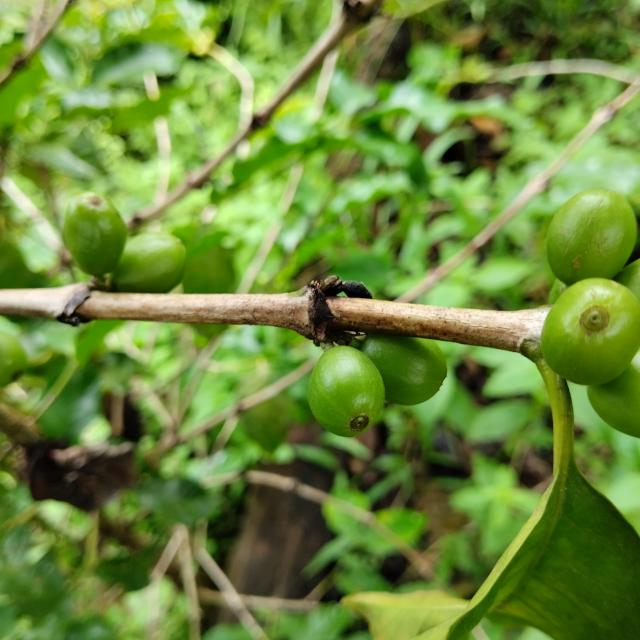green: (542, 278, 640, 386), (547, 188, 638, 285), (308, 346, 385, 438), (361, 334, 448, 406), (62, 192, 126, 276), (588, 351, 640, 438), (111, 232, 185, 293)
